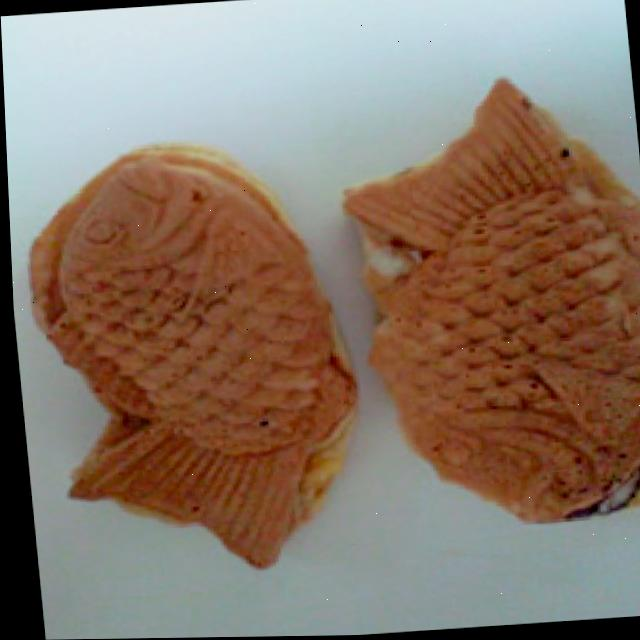熟制海鲜: (2, 52, 640, 590)
